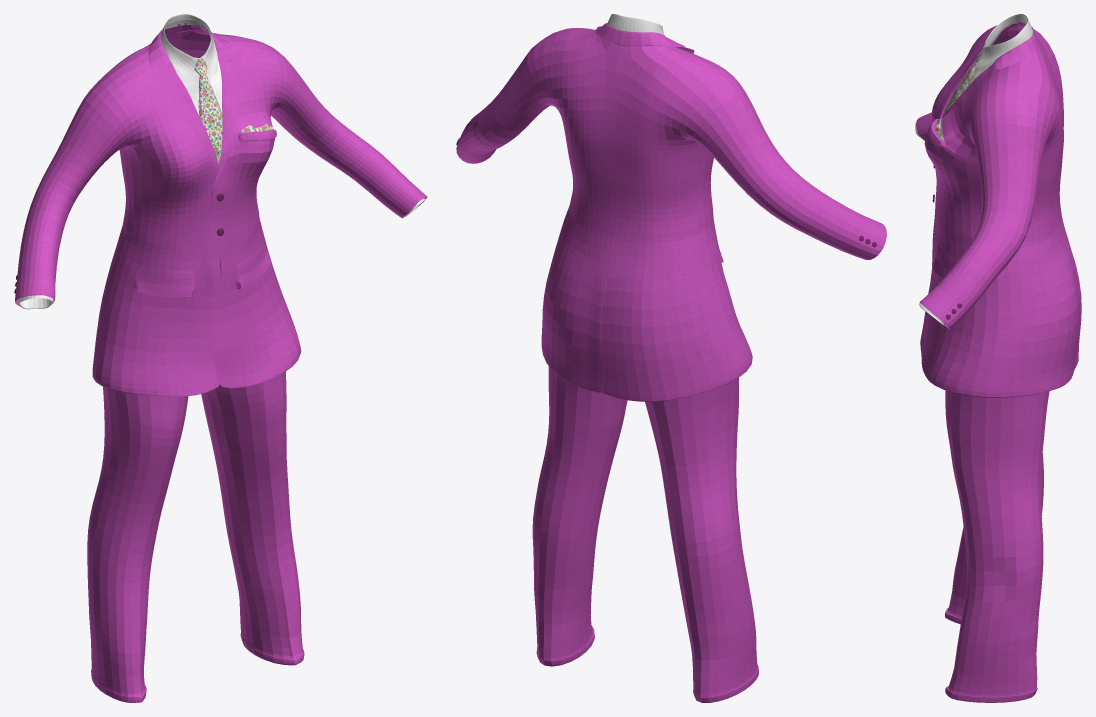
Rendered from garment.glb.
The picture shows the model from 3 angles, left to right: view 1: azimuth 30°, elevation 25°; view 2: azimuth 150°, elevation 25°; view 3: azimuth 270°, elevation 25°; orthographic projection. The views are drawn at different scales.
Parts seen in each view (by area): view 1: garment; view 2: garment; view 3: garment.
Part boxes in pixels (x1=…): garment: x1=14, y1=14, x2=427, y2=702; garment: x1=456, y1=14, x2=886, y2=702; garment: x1=915, y1=14, x2=1081, y2=702.
Size of the model in its own units: 9.18 by 13.73 by 3.24.
Materials: 1 (1 with a texture image).
